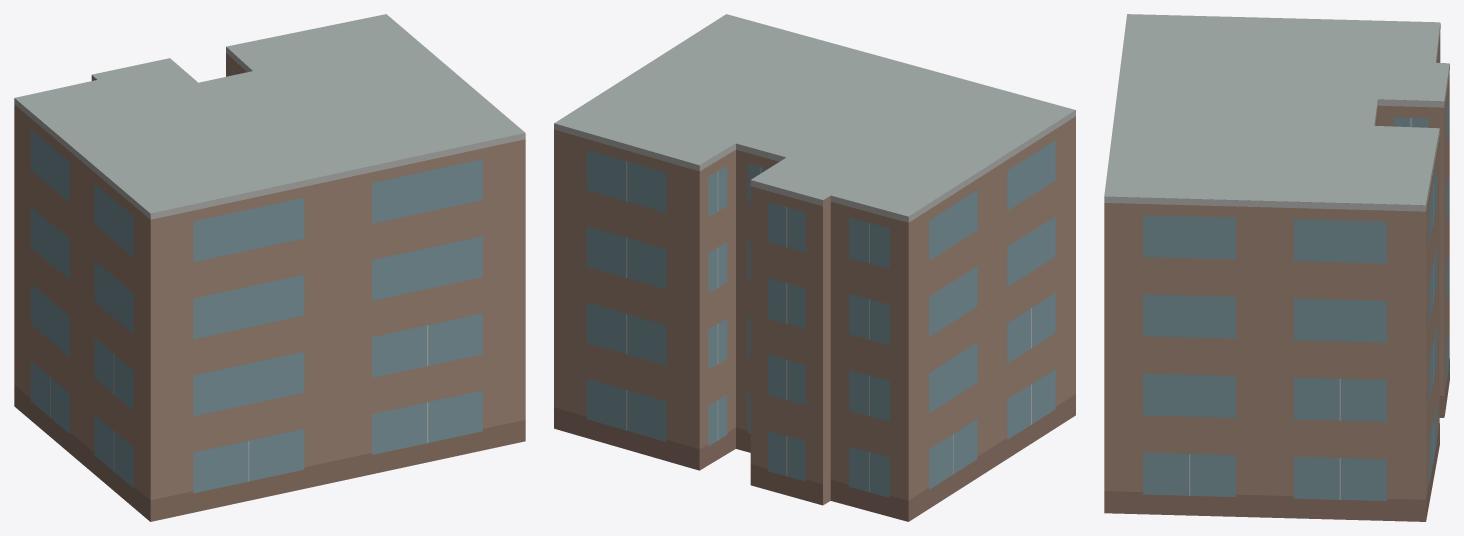
The model's file is survey-upis-32908873.glb.
3 views of the same model, side by side, from view 1: azimuth 30°, elevation 25°; view 2: azimuth 150°, elevation 25°; view 3: azimuth 270°, elevation 25° (orthographic). The views are drawn at different scales.
Parts seen in each view (by area): view 1: survey-upis-32908873.tmp; view 2: survey-upis-32908873.tmp; view 3: survey-upis-32908873.tmp.
Part boxes in pixels (x1,y1,x2,y2): survey-upis-32908873.tmp: [14, 14, 525, 521]; survey-upis-32908873.tmp: [554, 14, 1075, 521]; survey-upis-32908873.tmp: [1104, 14, 1449, 521].
Size of the model in its own units: 15.55 by 12 by 11.88.
